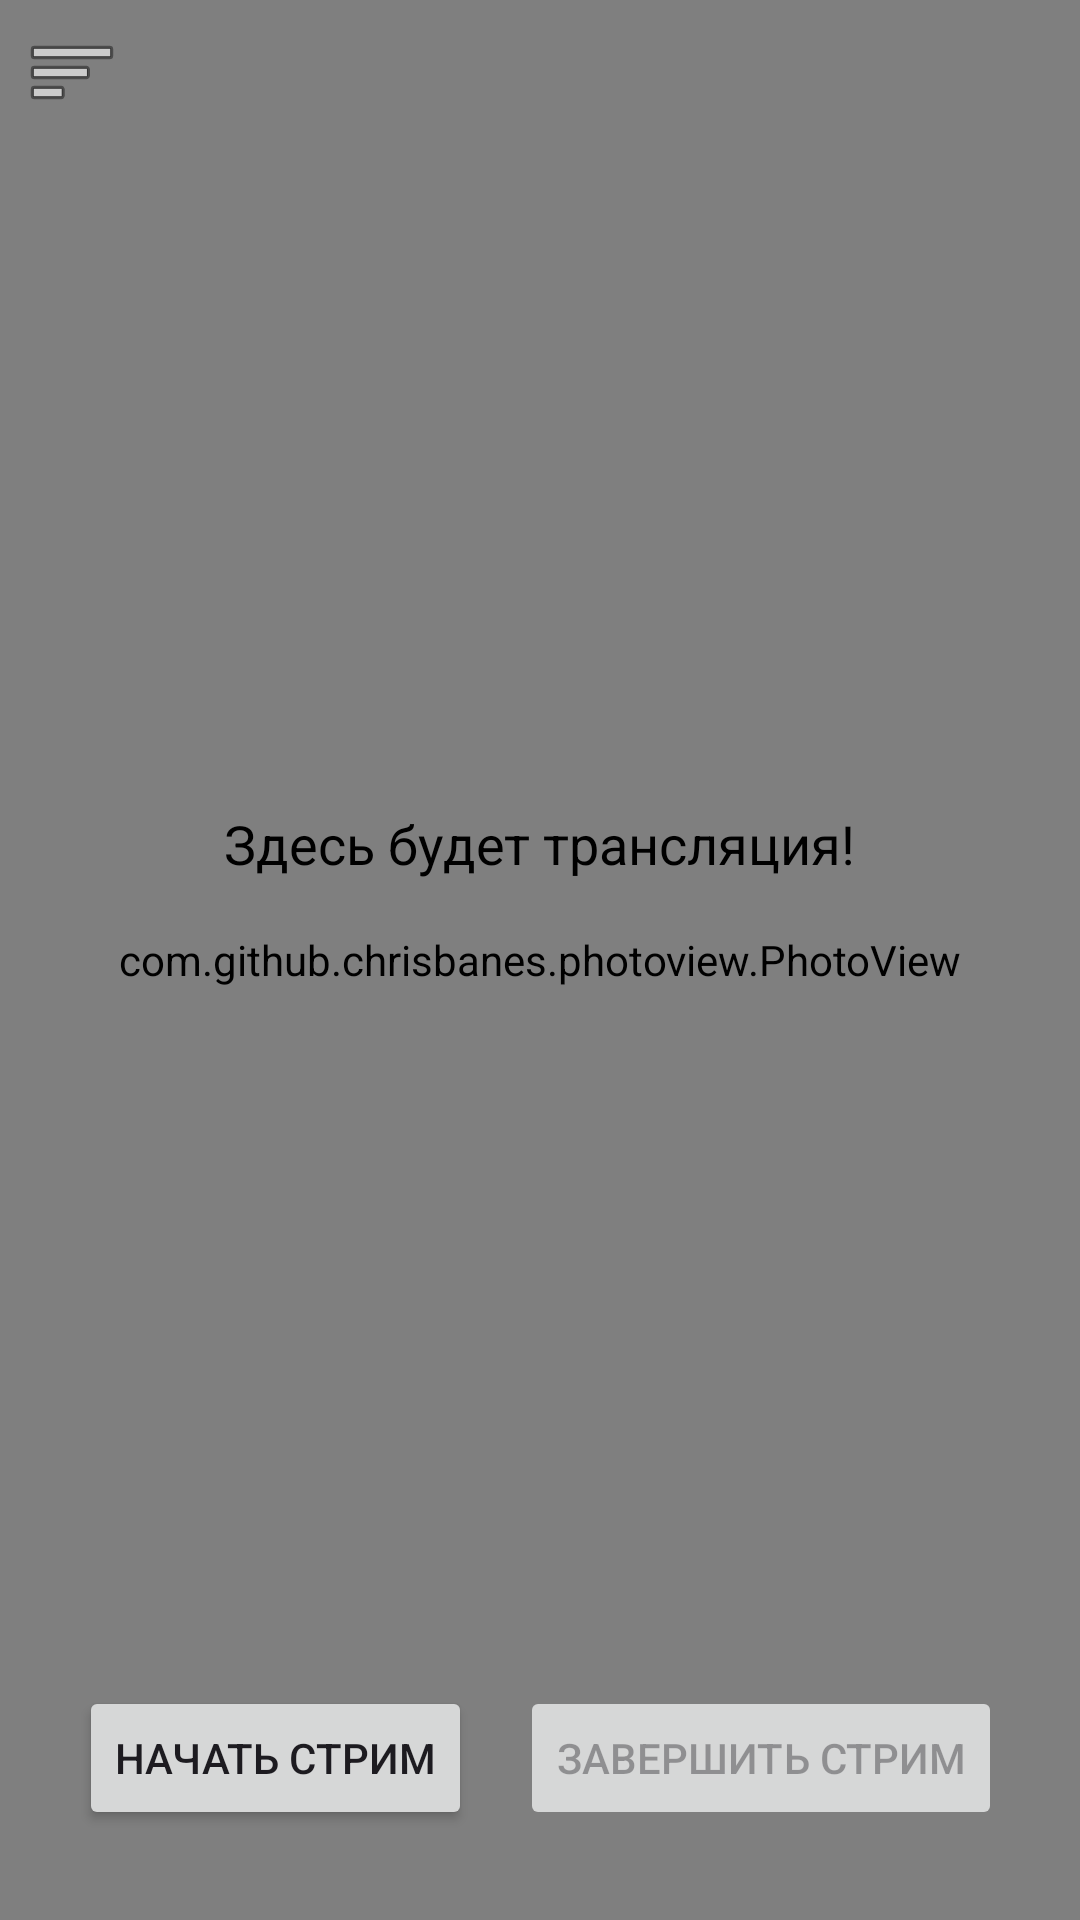

Icon bounding boxes for this 1080px x 1920px phone screenshot, format (left=x1, top=y1, right=x2, bottom=y2):
sort by size: (left=31, top=46, right=113, bottom=99)
